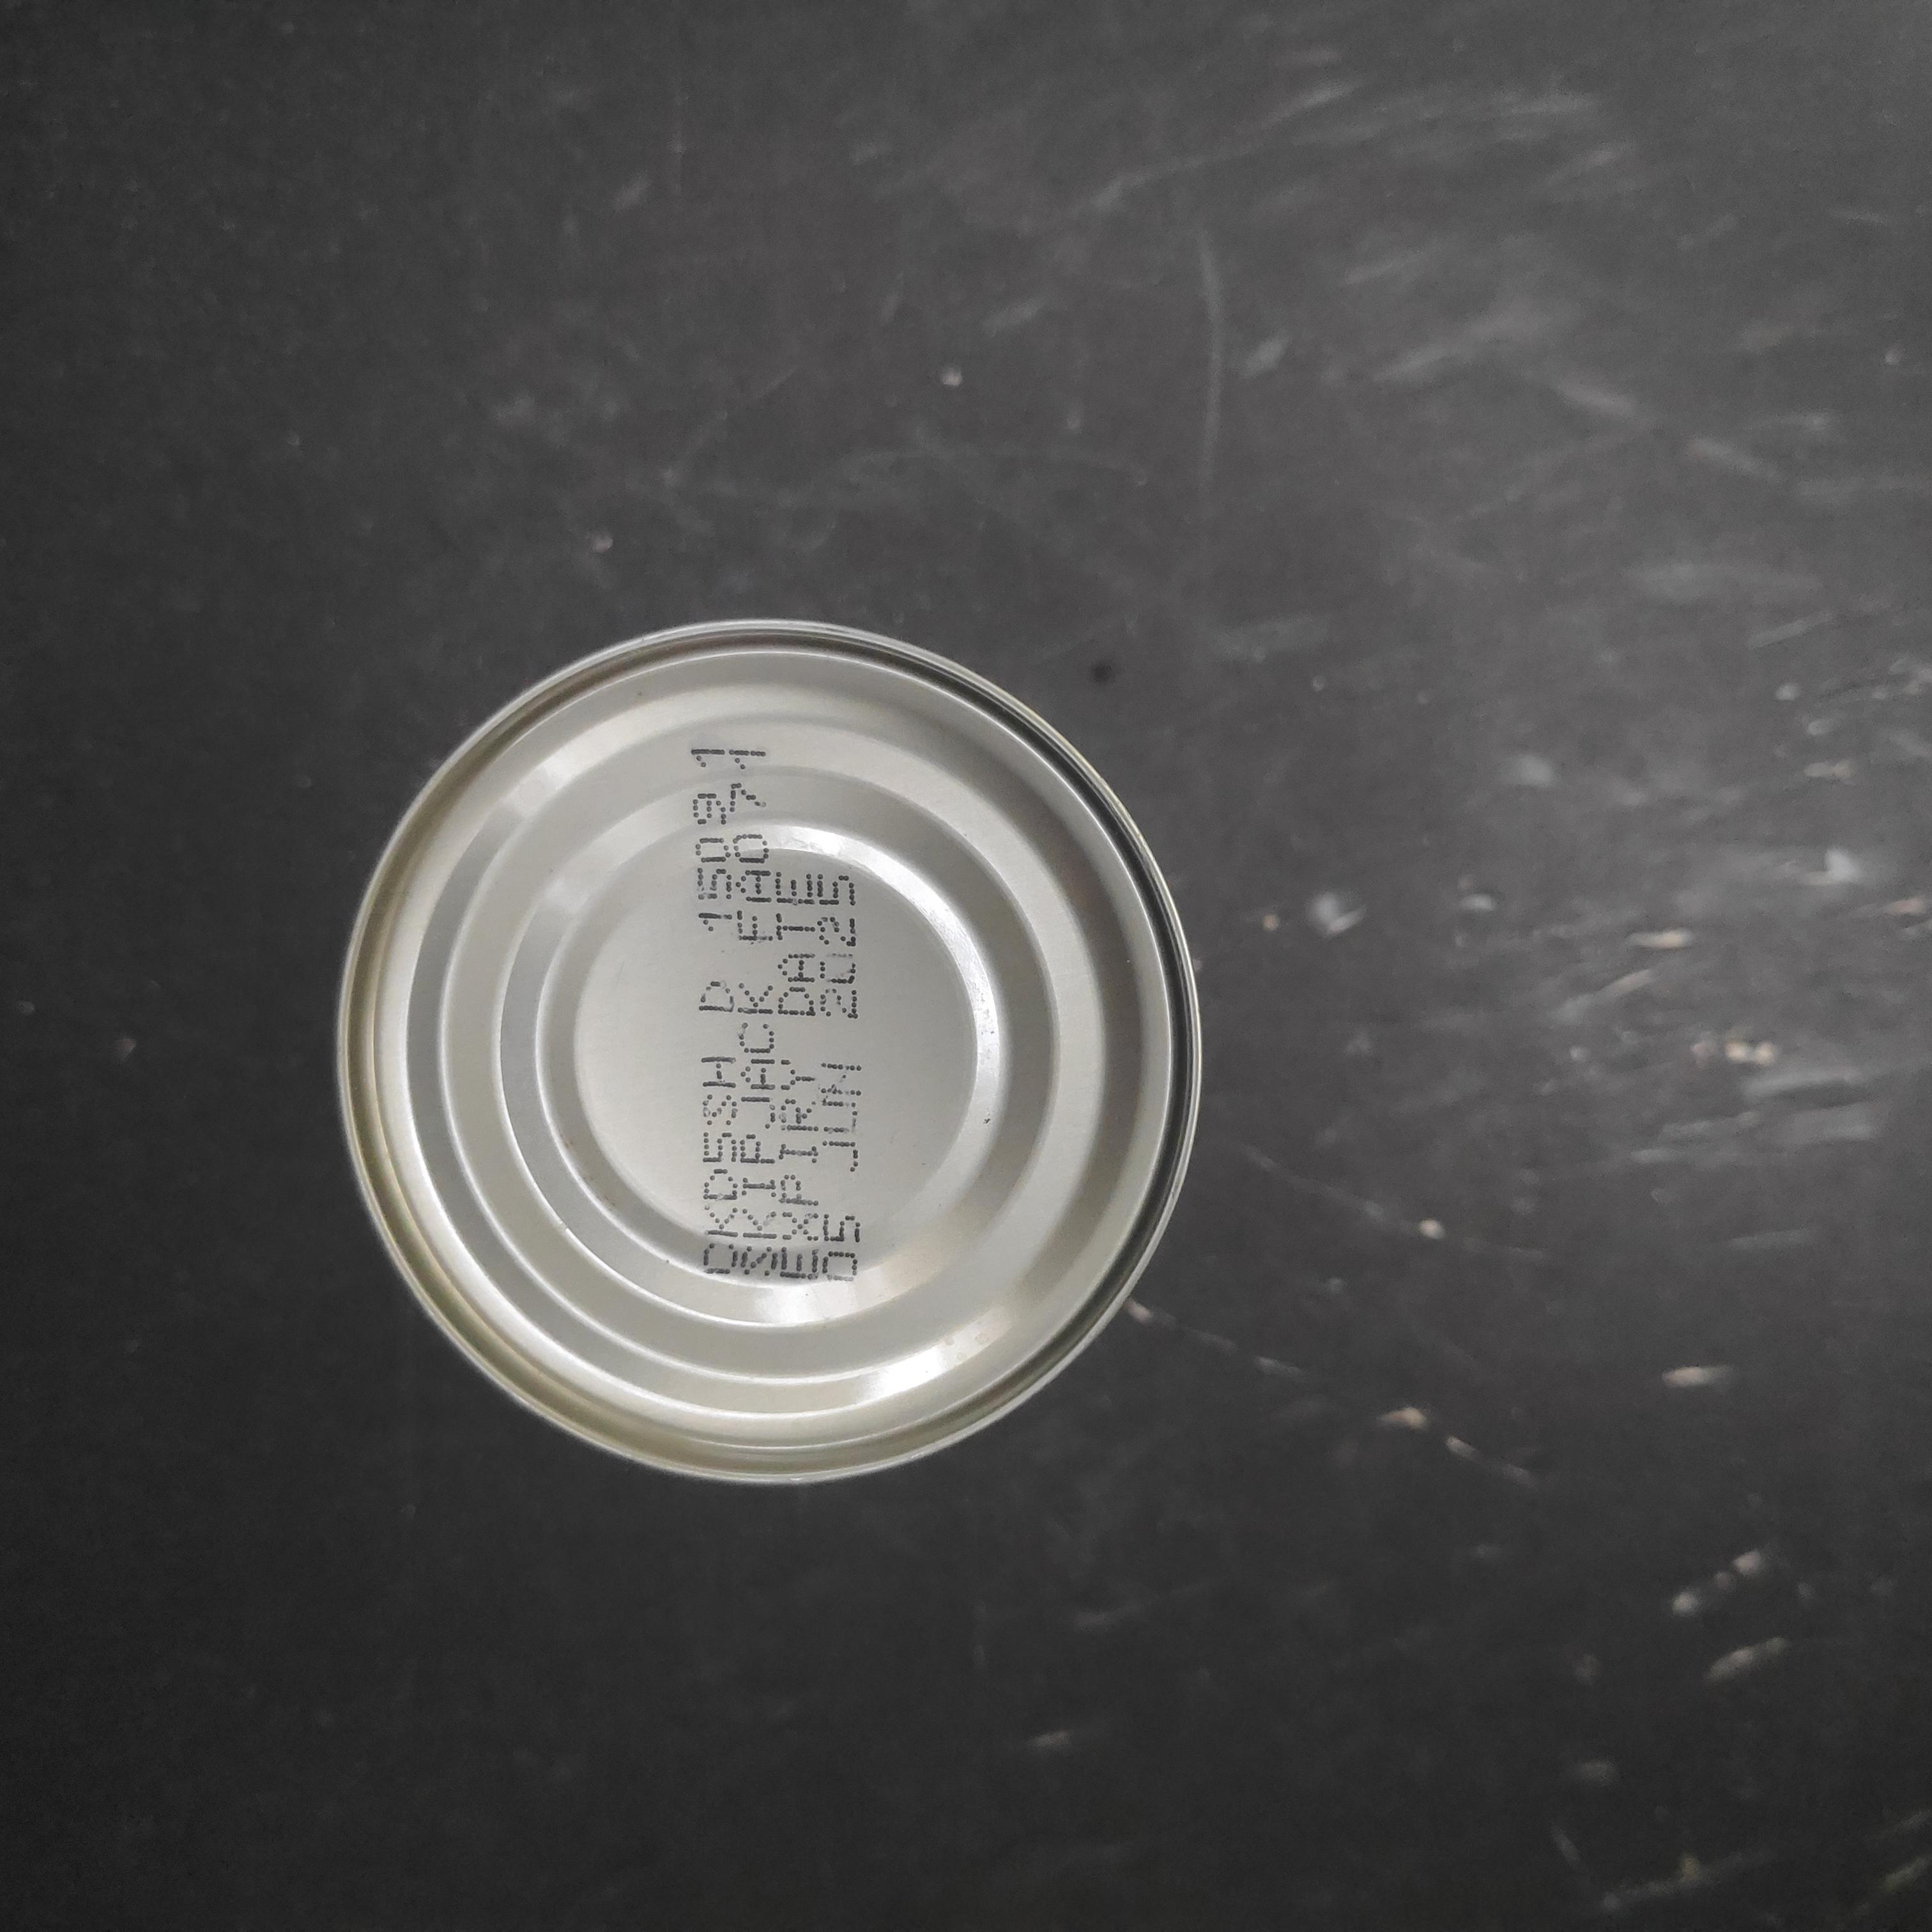No defect: (720, 426, 1614, 1339)
